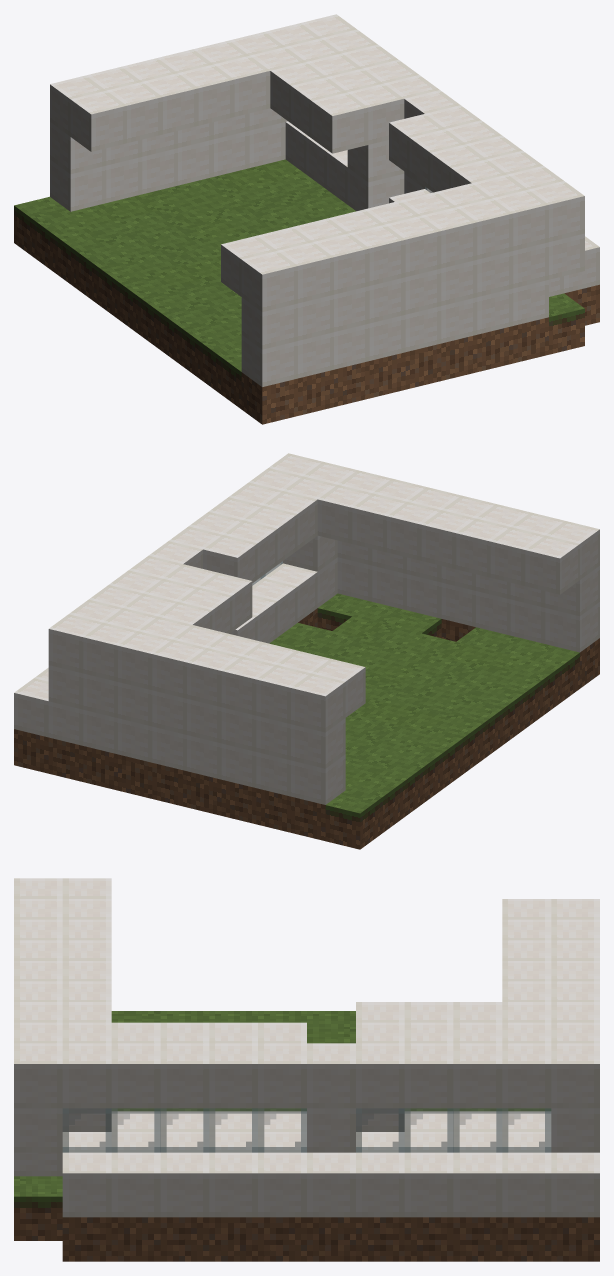
File: Maquete_Pedro Gonçalves Blanco.glb
The picture shows the model from 3 angles, top to bottom: view 1: azimuth 30°, elevation 25°; view 2: azimuth 150°, elevation 25°; view 3: azimuth 270°, elevation 25°; orthographic projection. The views are drawn at different scales.
Parts seen in each view (by area): view 1: node_4, node_2, node_6, node_5; view 2: node_4, node_6, node_2, node_5; view 3: node_4, node_2, node_3, node_6, node_5, node_1.
Part boxes in pixels (x1,y1,x2,y2): node_4: [122, 14, 522, 251]; node_2: [329, 150, 599, 398]; node_6: [14, 66, 241, 378]; node_5: [200, 218, 369, 424]; node_4: [14, 497, 435, 824]; node_6: [256, 650, 539, 849]; node_2: [229, 453, 495, 656]; node_5: [436, 504, 599, 717]; node_4: [160, 940, 599, 1261]; node_2: [14, 940, 160, 1261]; node_3: [160, 1108, 551, 1152]; node_6: [160, 899, 599, 1043]; node_5: [14, 878, 160, 1022]; node_1: [62, 1108, 160, 1152].
Size of the model in its own units: 10 by 4 by 12.
Materials: 2 (2 with a texture image).
